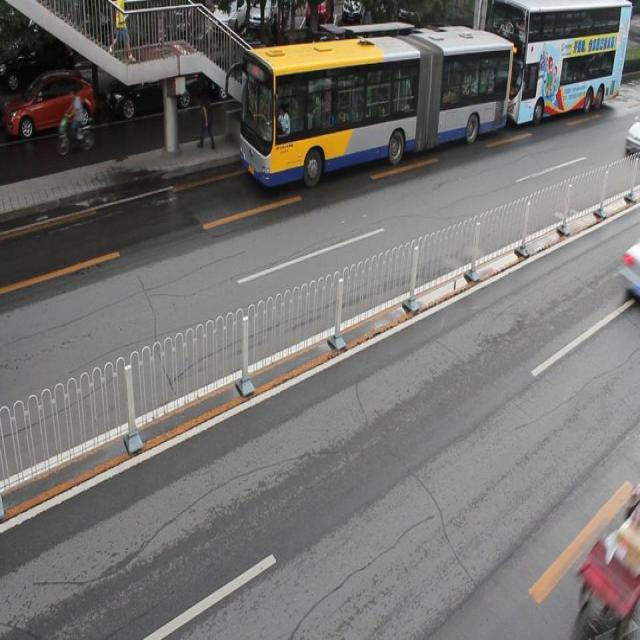car: (0, 70, 96, 137), (104, 56, 198, 113), (206, 39, 277, 103), (291, 41, 363, 98), (620, 234, 640, 304), (623, 117, 640, 164)
van: (241, 21, 512, 178), (485, 1, 630, 119)
